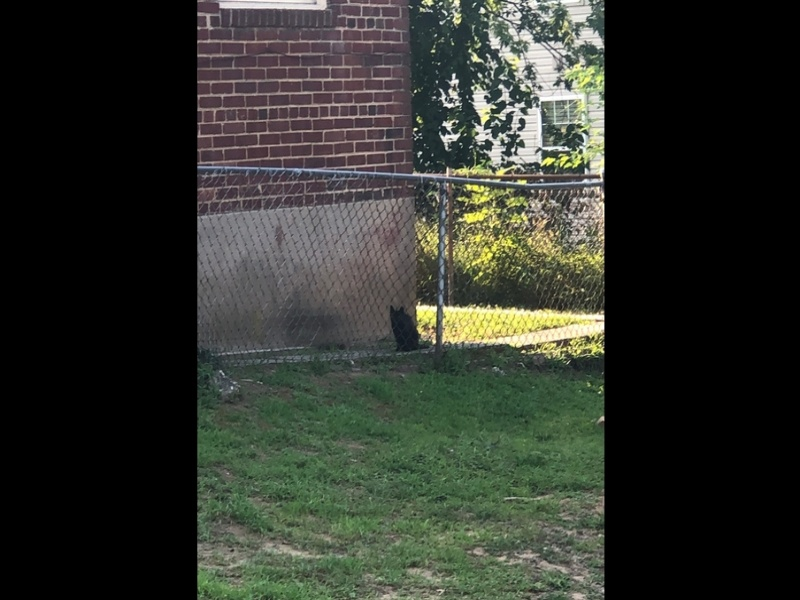cat: (388, 304, 429, 355)
